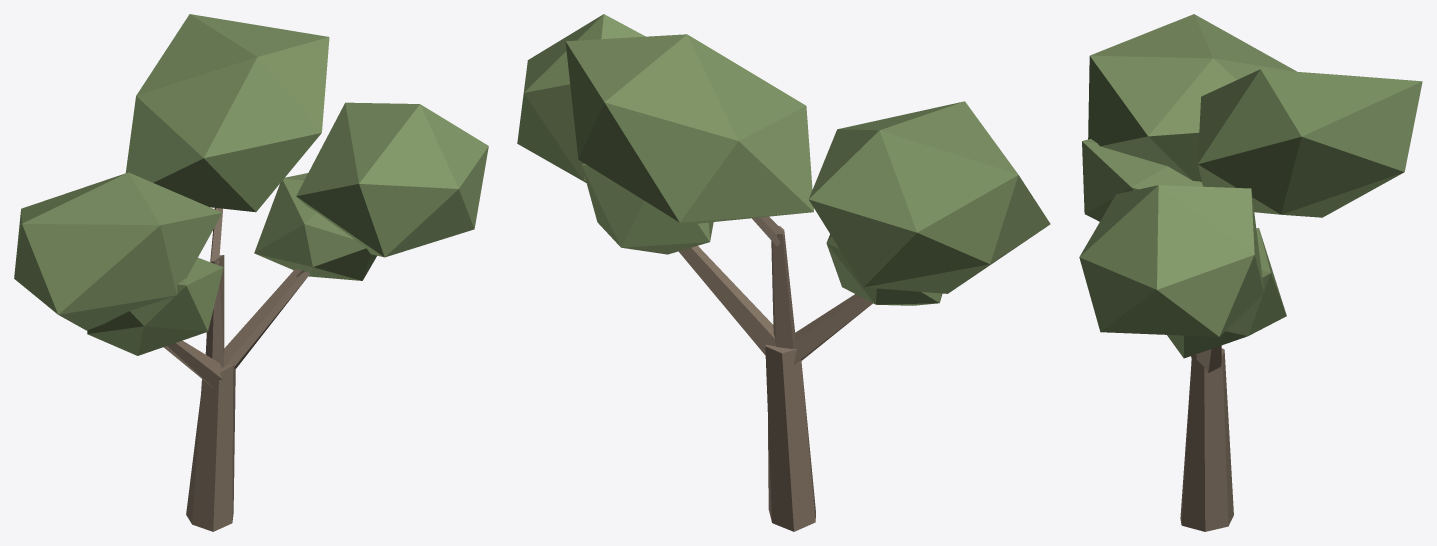
The model's file is broadleaf_4.glb.
The picture shows the model from 3 angles, left to right: view 1: azimuth 30°, elevation 25°; view 2: azimuth 150°, elevation 25°; view 3: azimuth 270°, elevation 25°; orthographic projection. The views are drawn at different scales.
Visible parts, largest first — view 1: broadleaf_4.001; view 2: broadleaf_4.001; view 3: broadleaf_4.001.
Boxes of the visible parts, x1,y1,x2,y2 form: broadleaf_4.001: [14, 14, 488, 531]; broadleaf_4.001: [517, 14, 1050, 531]; broadleaf_4.001: [1079, 14, 1422, 531].
Bounding box in the file's own units: 10.84 × 9.88 × 6.23.
